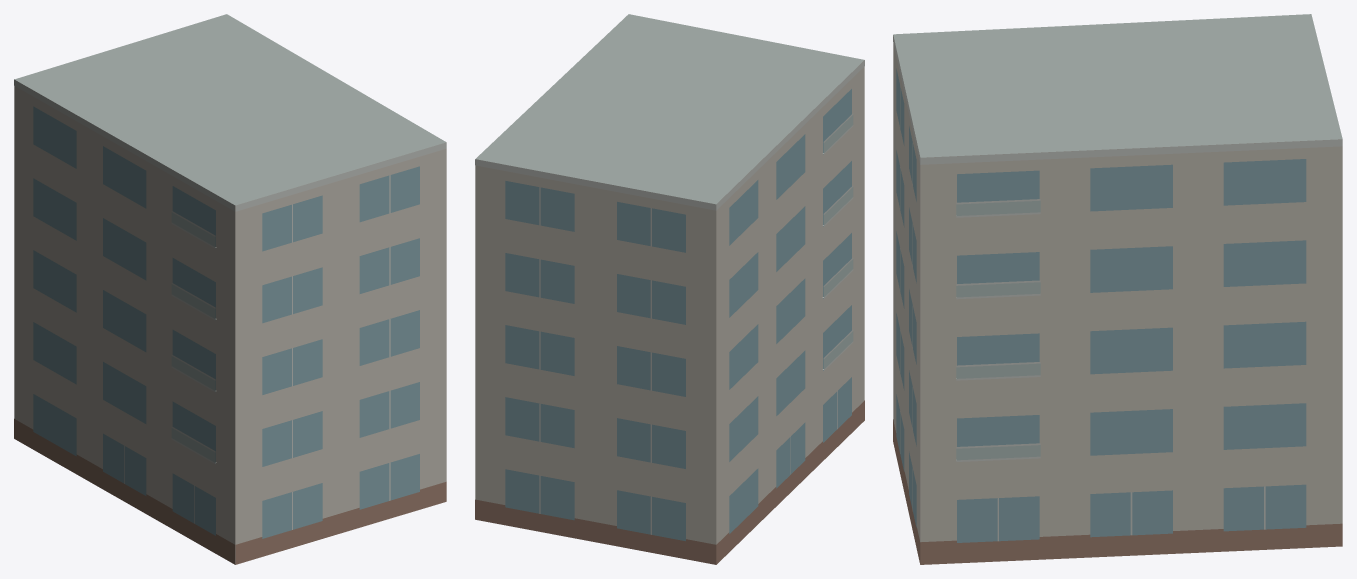
File: survey-upis-33046314.glb
3 views of the same model, side by side, from view 1: azimuth 30°, elevation 25°; view 2: azimuth 150°, elevation 25°; view 3: azimuth 270°, elevation 25° (orthographic). The views are drawn at different scales.
Parts seen in each view (by area): view 1: survey-upis-33046314.tmp; view 2: survey-upis-33046314.tmp; view 3: survey-upis-33046314.tmp.
Part boxes in pixels (x1,y1,x2,y2): survey-upis-33046314.tmp: [14, 14, 446, 564]; survey-upis-33046314.tmp: [475, 14, 864, 564]; survey-upis-33046314.tmp: [893, 14, 1342, 564].
Bounding box in the file's own units: 10.53 × 13.9 × 13.92.
